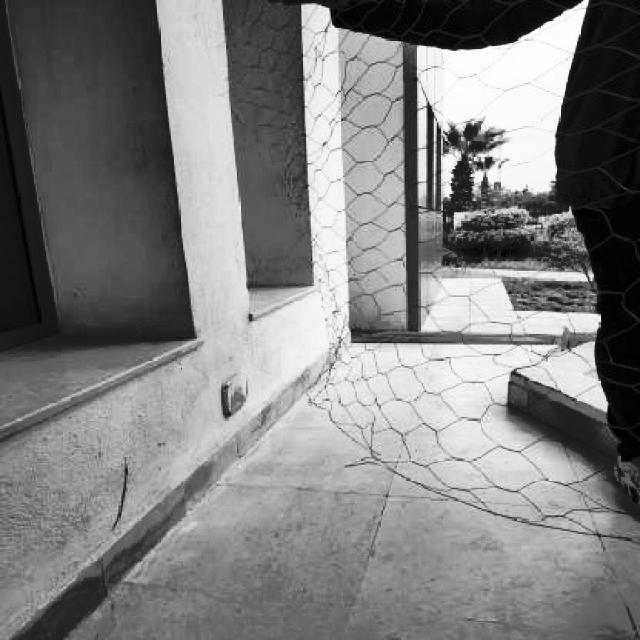anomaly-fence: (1, 0, 420, 485), (0, 491, 630, 640)
